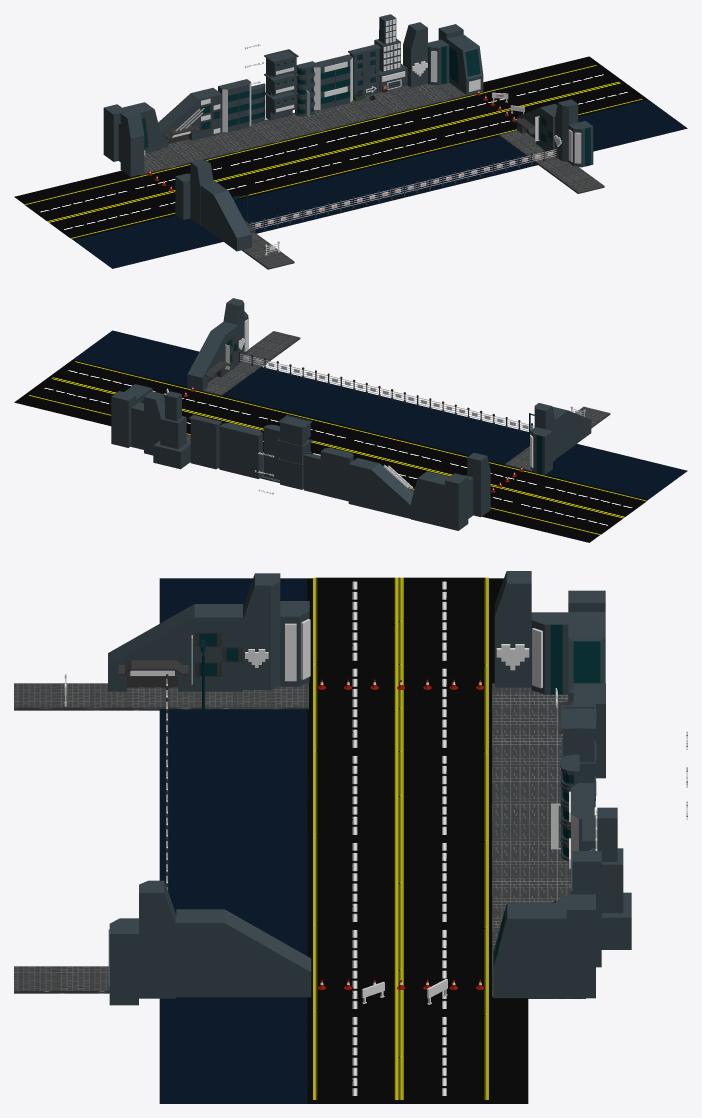
Rendered from Sahne1.fbx.
3 renders of one model, top to bottom at view 1: azimuth 30°, elevation 25°; view 2: azimuth 150°, elevation 25°; view 3: azimuth 270°, elevation 25°, orthographic. The views are drawn at different scales.
Parts seen in each view (by area): view 1: Plane.002, Plane.003, Cube.078, Plane.001, Cube.026, Cube.089, Cube.069, Cube.113, Cube.075, Cube.059, Cube.057, Cube.028 (+14 smaller); view 2: Plane.003, Plane.002, Plane.001, Cube.069, Cube.026, Cube.113, Cube.057, Cube.080, gökdelen.004, Cube.075, Cube.055, Cube.065 (+12 smaller); view 3: Plane.002, Plane.003, Cube.078, Cube.080, Plane.001, Cube.026, Cube.089, Cube.059, Cube.084, Cube.094, Cube.028, gökdelen.004 (+11 smaller).
Part boxes in pixels (left/top/right/bottom): Plane.002: left=24, top=65, right=642, bottom=238; Plane.003: left=73, top=99, right=687, bottom=268; Cube.078: left=139, top=82, right=482, bottom=175; Plane.001: left=14, top=56, right=647, bottom=239; Cube.026: left=242, top=130, right=604, bottom=269; Cube.089: left=200, top=181, right=251, bottom=251; Cube.069: left=158, top=88, right=221, bottom=148; Cube.113: left=250, top=147, right=557, bottom=232; Cube.075: left=264, top=49, right=298, bottom=120; Cube.059: left=446, top=34, right=483, bottom=94; Cube.057: left=313, top=54, right=352, bottom=109; Cube.028: left=120, top=110, right=144, bottom=176; Plane.003: left=73, top=330, right=687, bottom=499; Plane.002: left=29, top=361, right=647, bottom=534; Plane.001: left=14, top=359, right=647, bottom=542; Cube.069: left=348, top=458, right=413, bottom=518; Cube.026: left=203, top=331, right=610, bottom=471; Cube.113: left=239, top=351, right=534, bottom=431; Cube.057: left=219, top=423, right=262, bottom=478; Cube.080: left=187, top=321, right=238, bottom=391; gökdelen.004: left=153, top=391, right=190, bottom=469; Cube.075: left=278, top=415, right=312, bottom=489; Cube.055: left=411, top=471, right=449, bottom=527; Cube.065: left=189, top=414, right=221, bottom=469; Plane.002: left=313, top=577, right=488, bottom=1099; Plane.003: left=159, top=578, right=308, bottom=1103; Cube.078: left=492, top=683, right=585, bottom=998; Cube.080: left=176, top=909, right=311, bottom=997; Plane.001: left=307, top=578, right=528, bottom=1103; Cube.026: left=14, top=683, right=308, bottom=993; Cube.089: left=108, top=604, right=242, bottom=691; Cube.059: left=493, top=903, right=566, bottom=998; Cube.084: left=139, top=880, right=176, bottom=998; Cube.094: left=243, top=573, right=280, bottom=689; Cube.028: left=494, top=571, right=531, bottom=687; gökdelen.004: left=591, top=807, right=631, bottom=949.
Bounding box in the file's own units: 33741 × 3817 × 18273.
